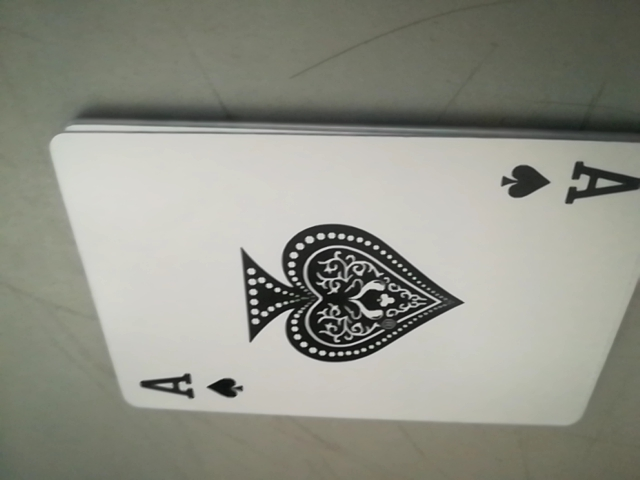ht a: (495, 147, 638, 218), (131, 368, 252, 405)
